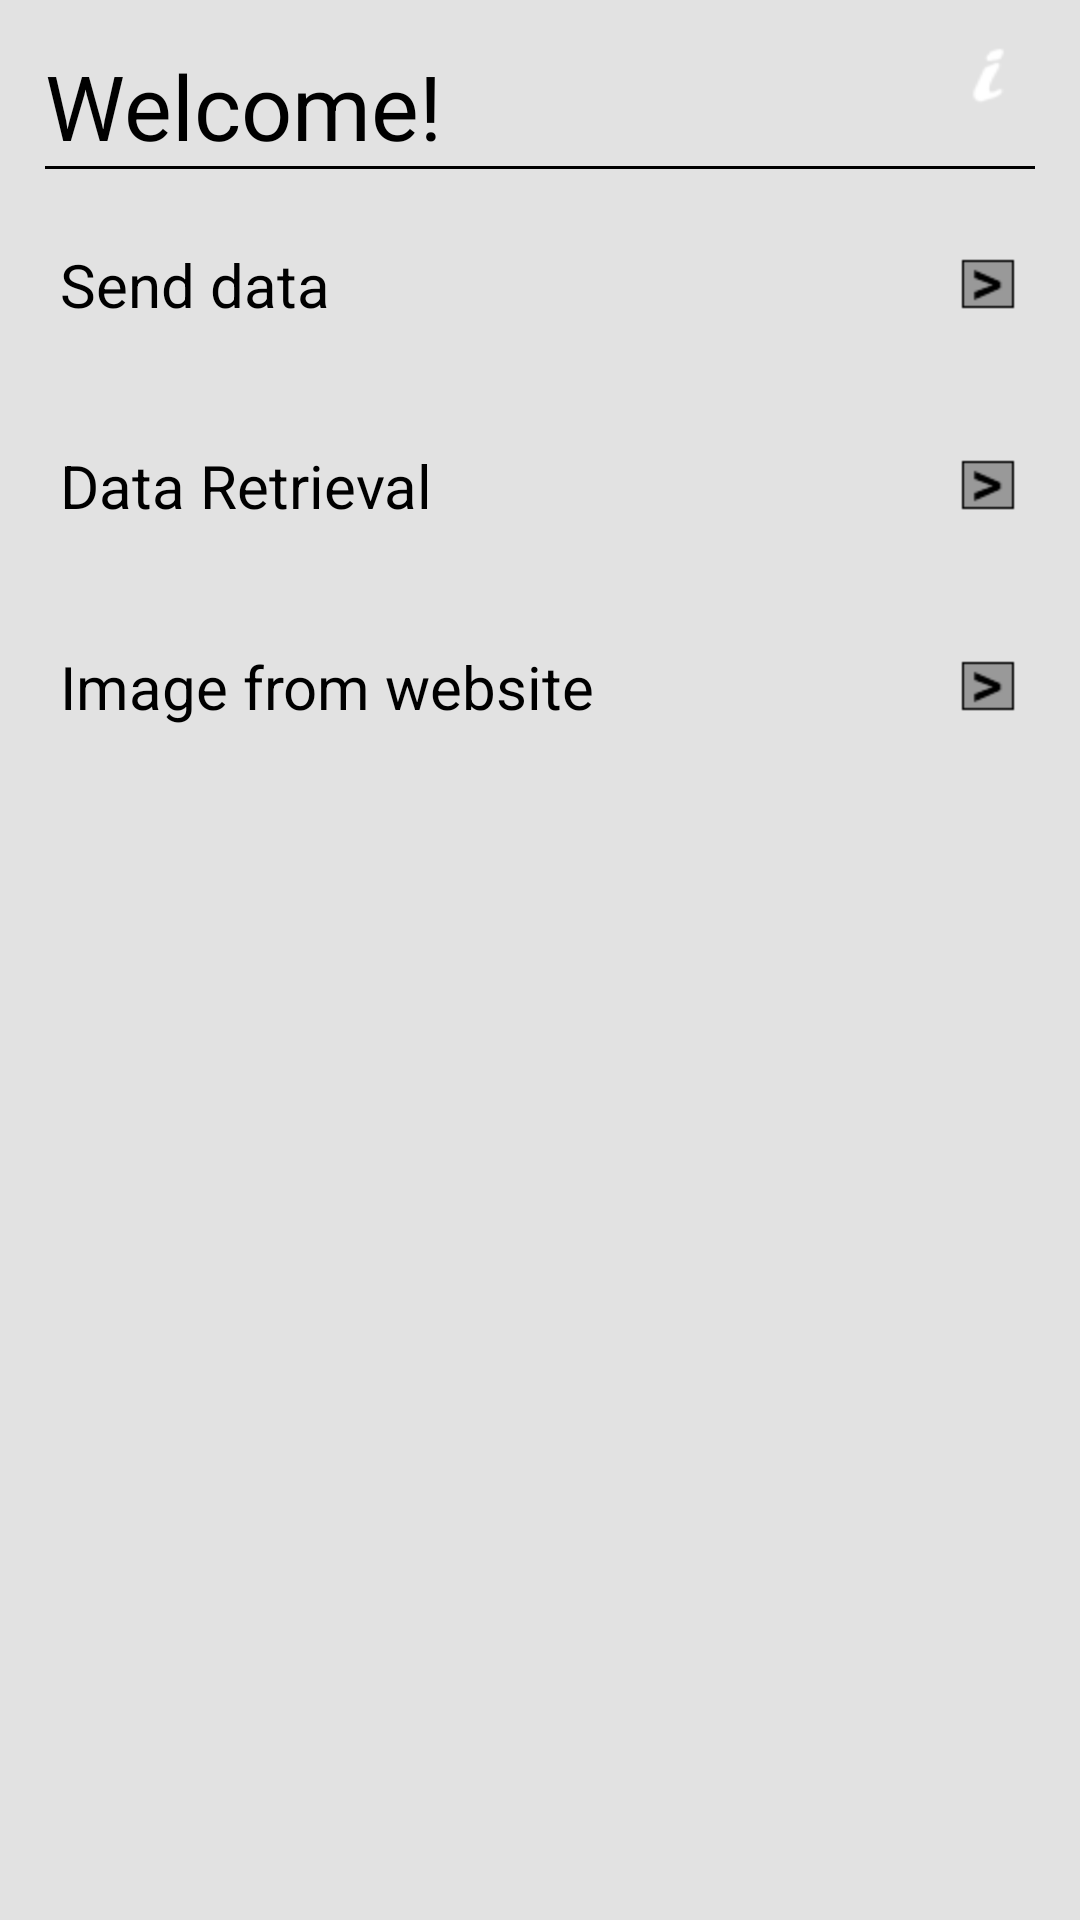

Icon bounding boxes for this 1080w x 1920h phone screenshot, format [x1, y1, x2, y2]:
info: [975, 50, 1001, 100]
